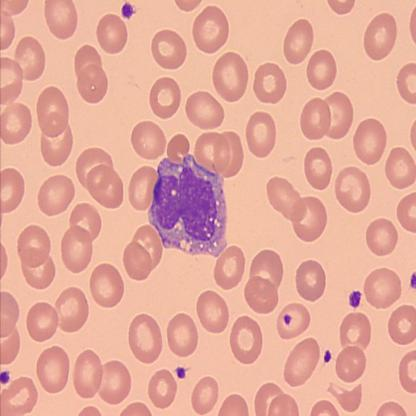Monocyte: (146, 151, 230, 261)
